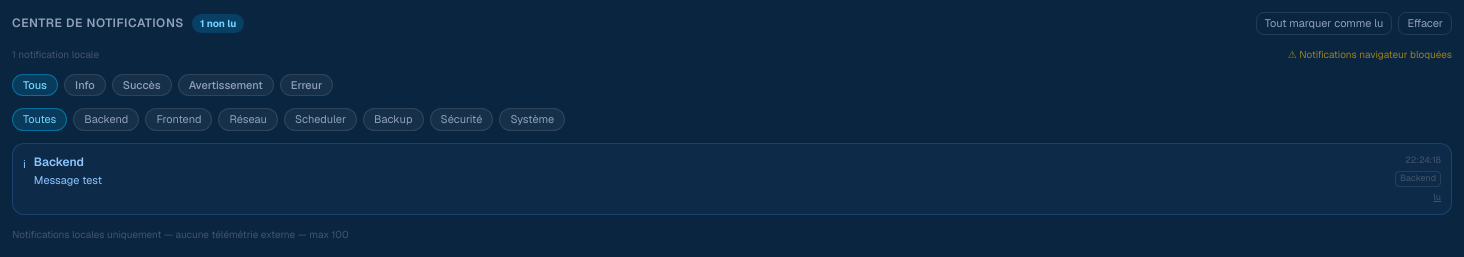
Test: NotificationsCenterPanel — filtres severity › affiche "Aucune notification pour ce filtre" si filtre vide
Click the button "Erreur" at (307, 85), box top-left (280, 74), bottom-right (333, 96)
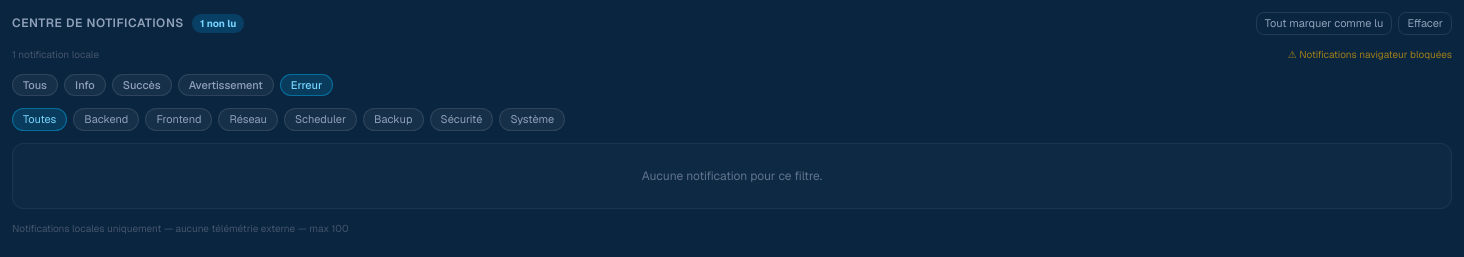
Expected: the text "Aucune notification pour ce filtre." is shown, top-left (12, 142), bottom-right (1452, 208)
